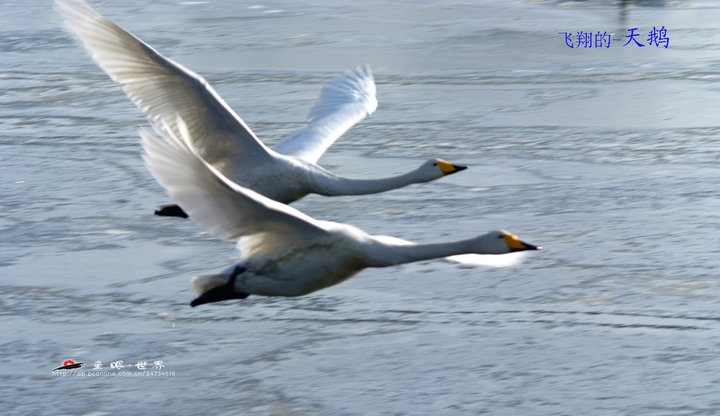bird: (50, 1, 477, 219), (130, 113, 543, 322)
